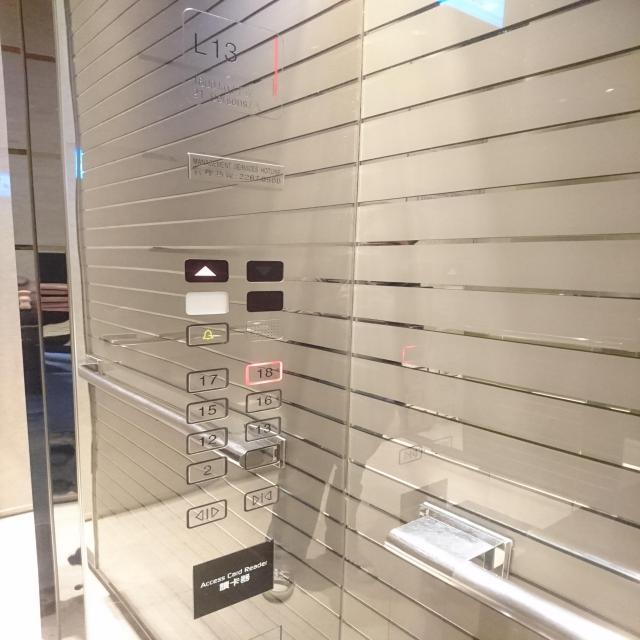12: (185, 426, 229, 455)
13: (244, 416, 282, 442)
15: (185, 396, 229, 424)
16: (244, 388, 283, 414)
17: (186, 367, 230, 393)
18: (244, 359, 283, 386)
2: (186, 456, 228, 486)
alarm: (185, 321, 230, 347)
close: (243, 483, 280, 512), (398, 445, 421, 463)
down: (245, 259, 285, 283)
empty: (184, 290, 230, 315), (243, 443, 281, 472), (245, 290, 284, 312)
open: (186, 497, 227, 529), (432, 436, 452, 453)
speaker: (245, 317, 284, 343)
up: (183, 258, 229, 283)
